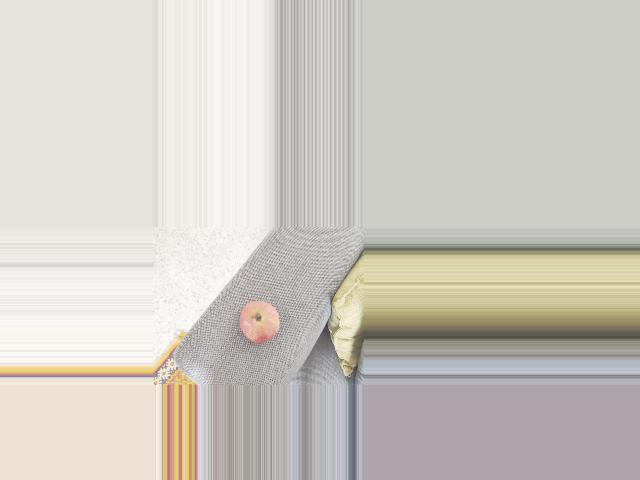apple: (237, 303, 285, 347)
